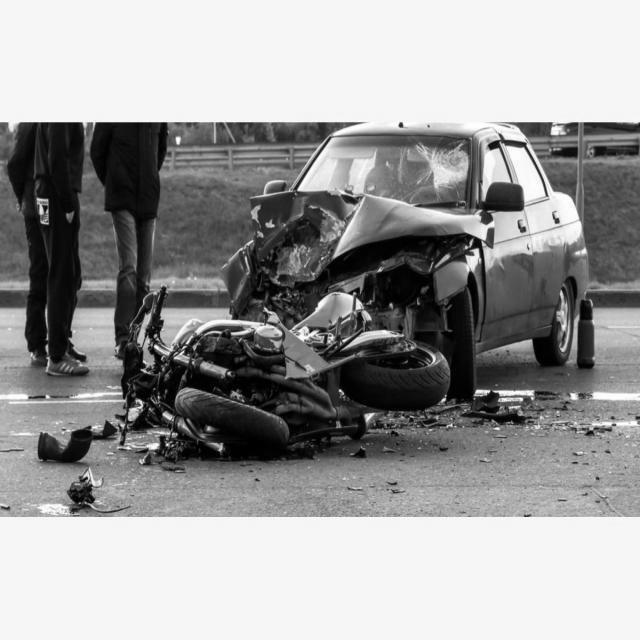accident: (138, 119, 596, 464)
